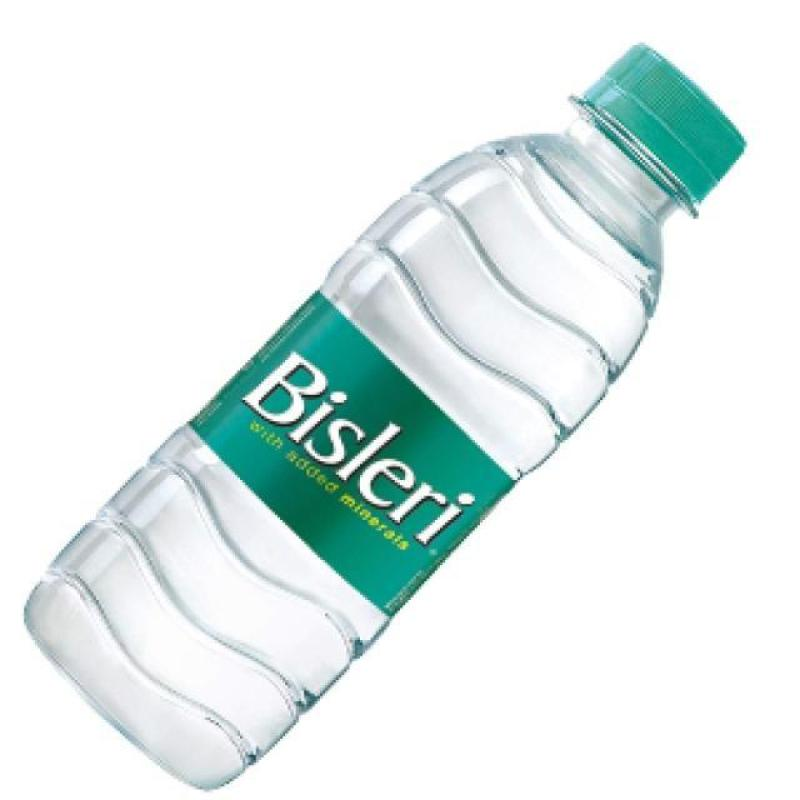botella: (17, 43, 745, 789)
